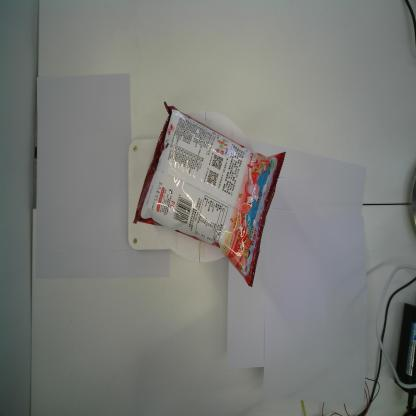Puffed Food: (132, 100, 287, 288)
